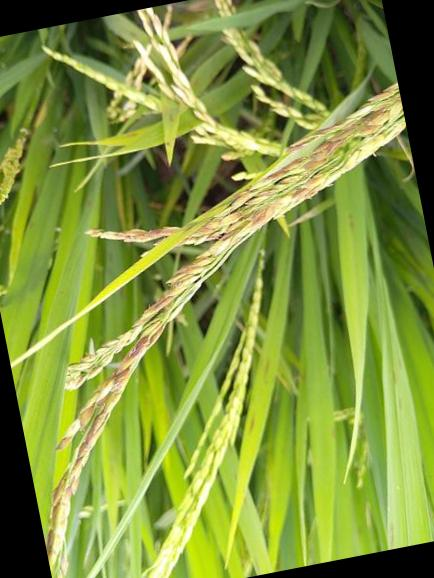Panicle Blight: (45, 88, 403, 568), (87, 224, 179, 242)
